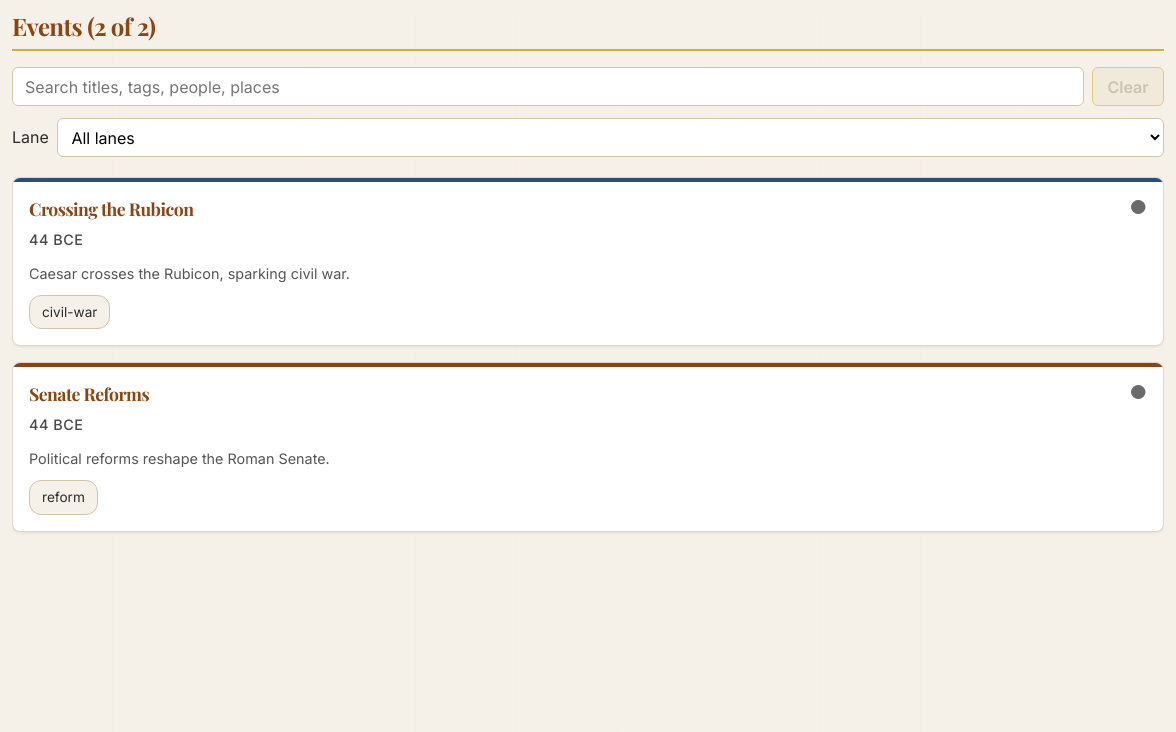
Test case: EventList › filters events by search text across tags and people
Type "civil" into the search field named "Search events" at (548, 87), box [12, 67, 1084, 106]
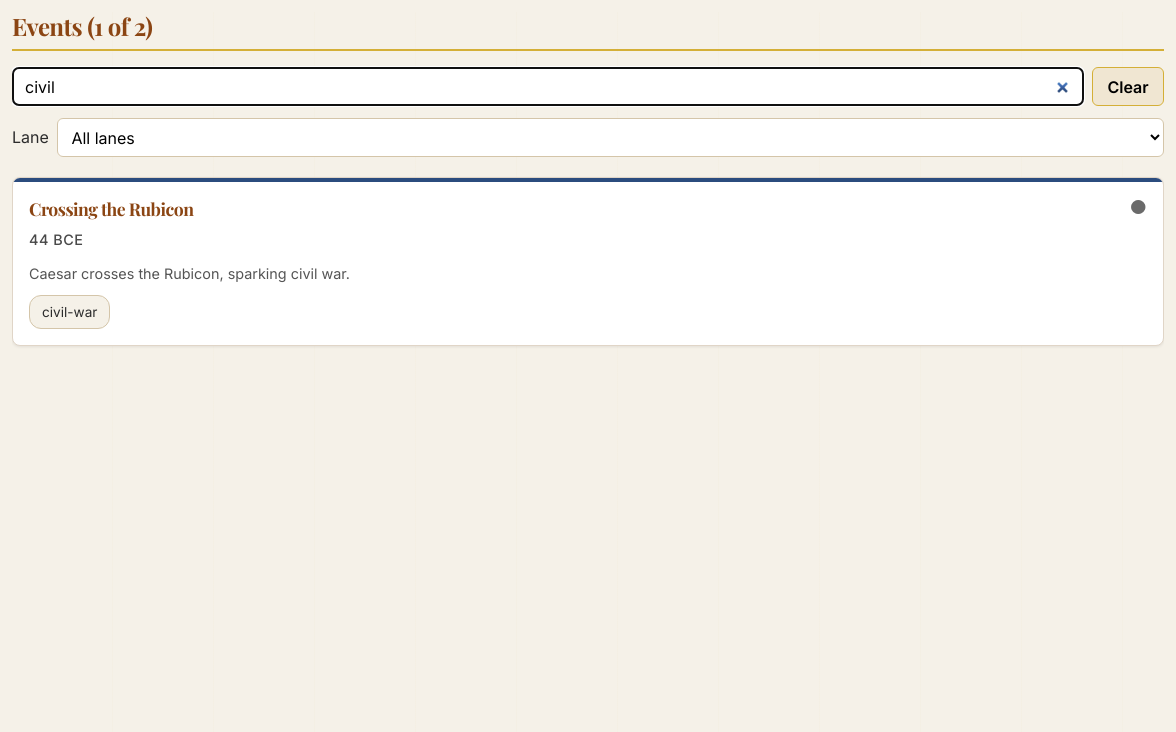
Expected: the heading "Crossing the Rubicon" is shown, [29, 197, 193, 220]
Now the button "Senate Reforms" is gone
